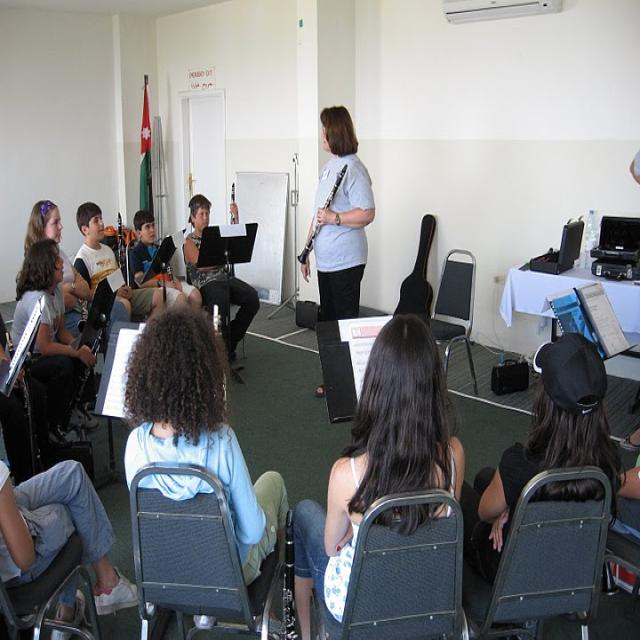clarinet: (294, 160, 352, 267), (71, 326, 107, 404), (229, 182, 239, 280), (115, 214, 126, 274)
